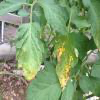Tomato Septoria leaf spot: (15, 22, 46, 84), (54, 31, 79, 89)
